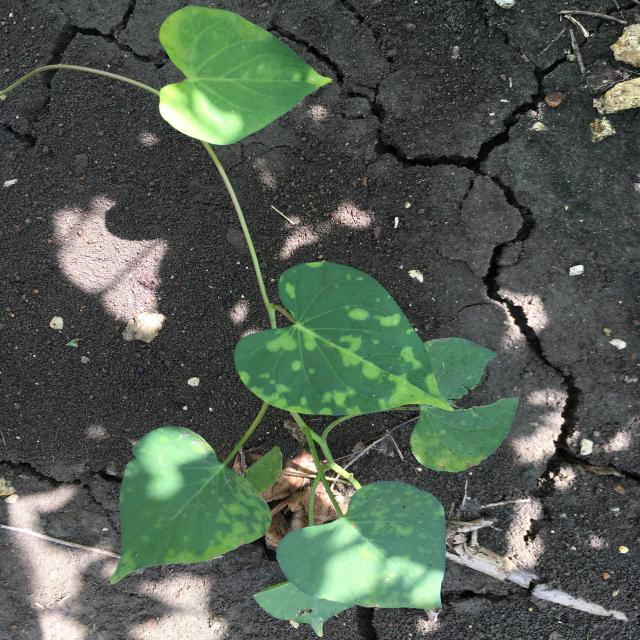MorningGlory: (108, 5, 520, 639)
